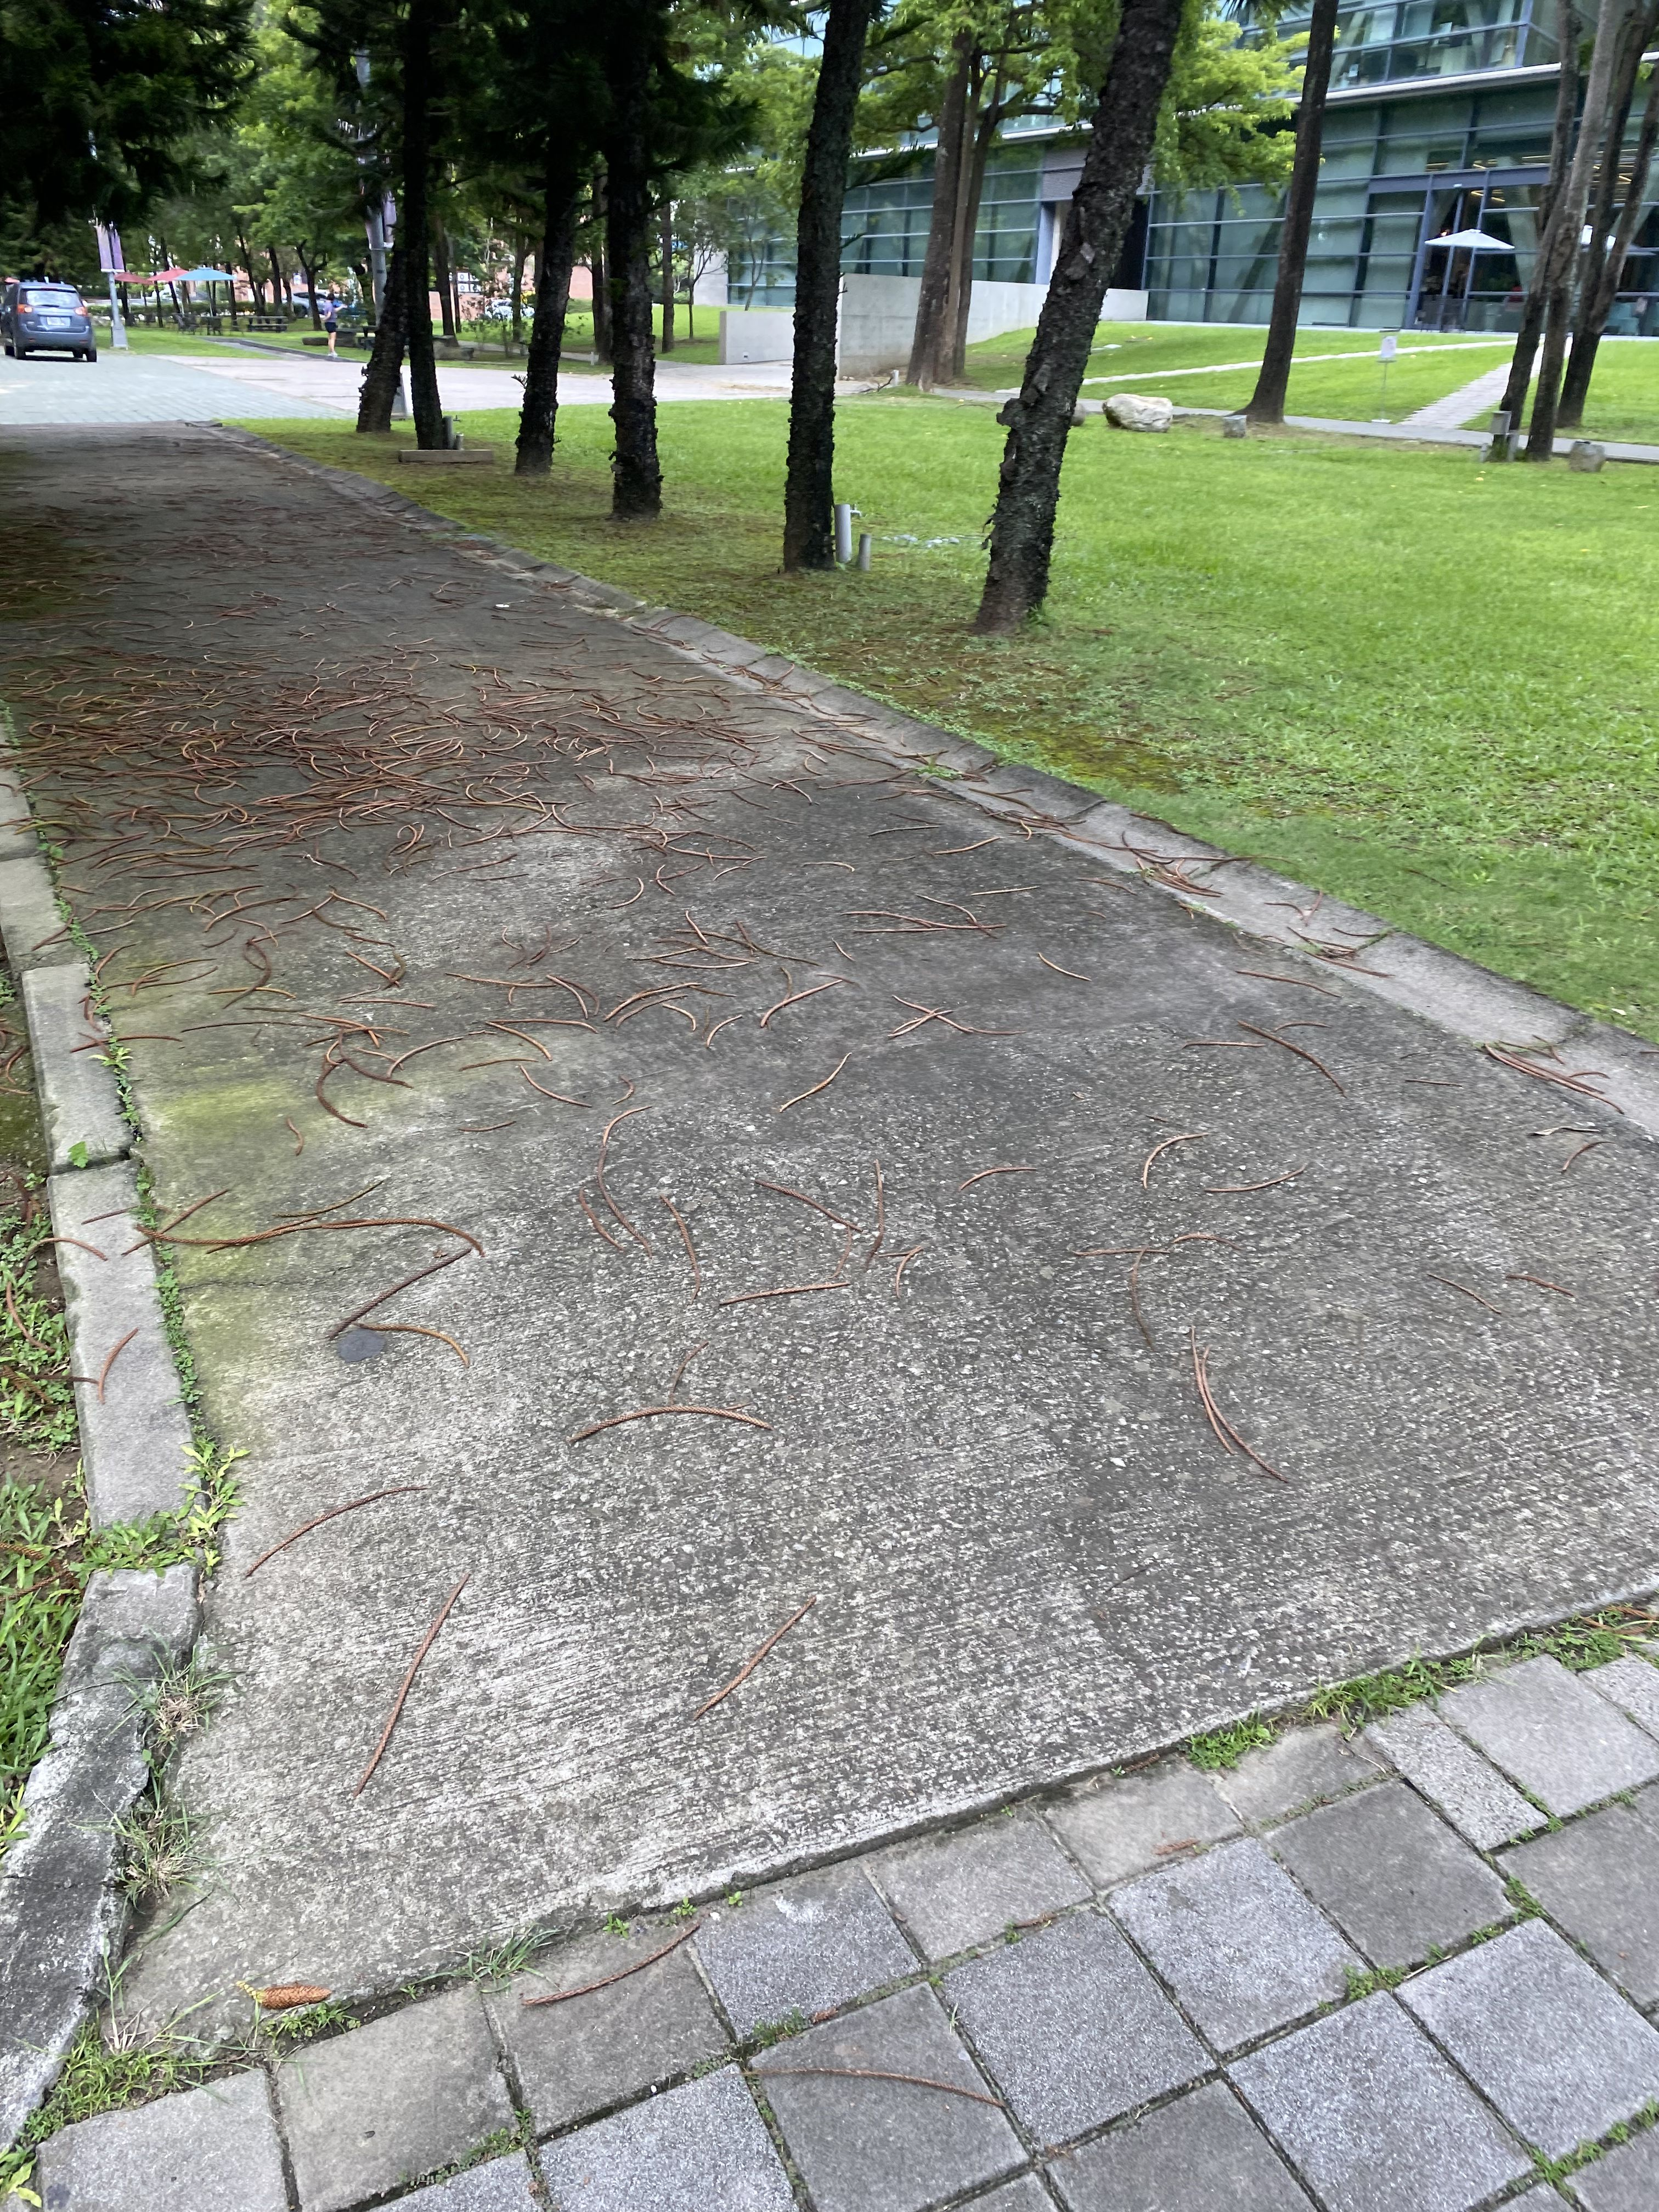sidewalk: (0, 425, 1659, 2212)
